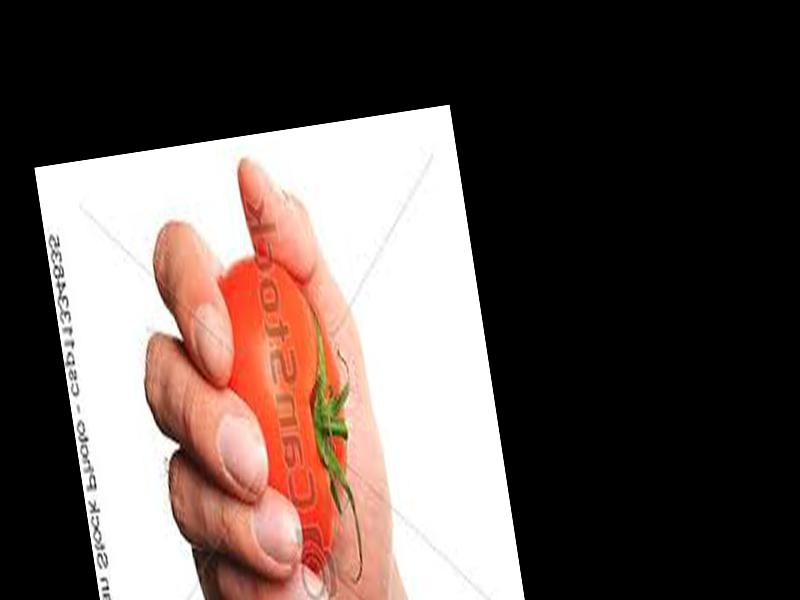Tomato: (212, 247, 365, 579)
